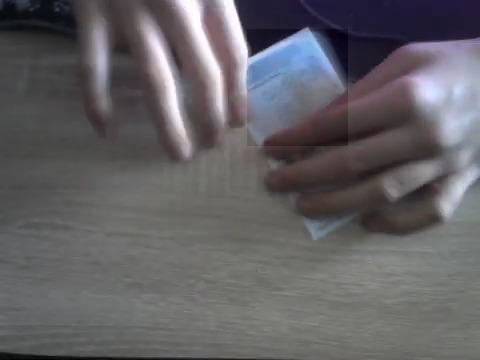20leva: (247, 29, 348, 146)
